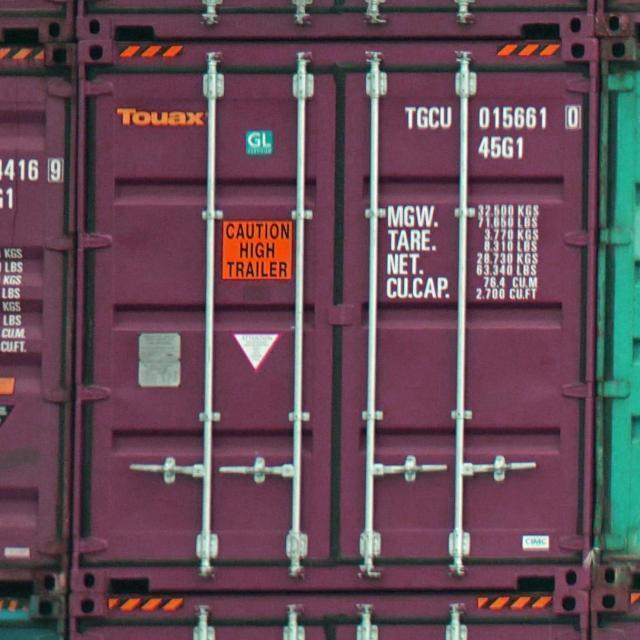ISO: (478, 134, 524, 160)
container_number: (402, 104, 582, 130)
